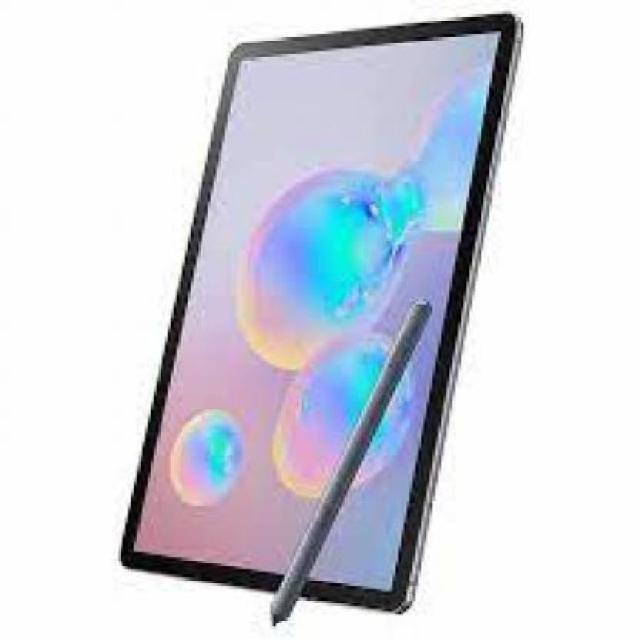tablet: (120, 12, 490, 610)
